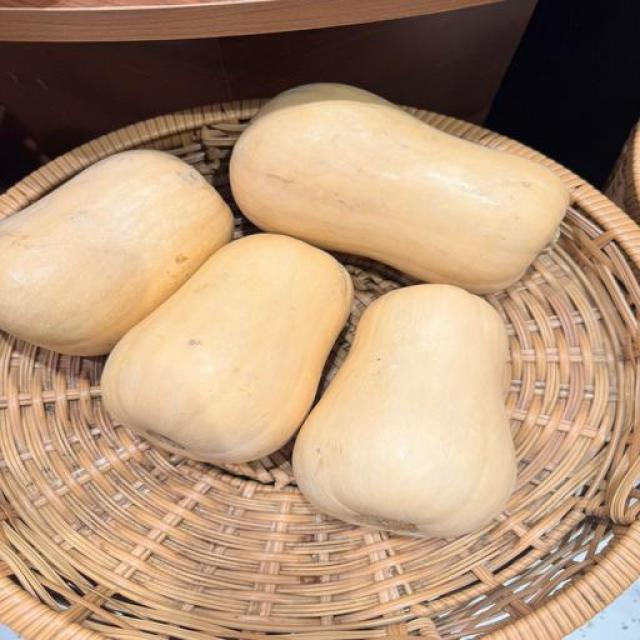organic: (0, 110, 639, 639), (607, 125, 639, 221)
